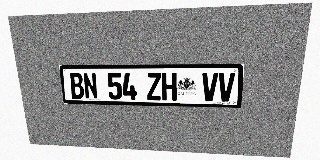4: (122, 73, 137, 100)
5: (107, 73, 123, 100)
B: (69, 73, 85, 99)
H: (162, 73, 177, 101)
N: (83, 73, 98, 99)
V: (217, 73, 235, 102), (201, 73, 218, 101)
Z: (146, 73, 161, 100)
